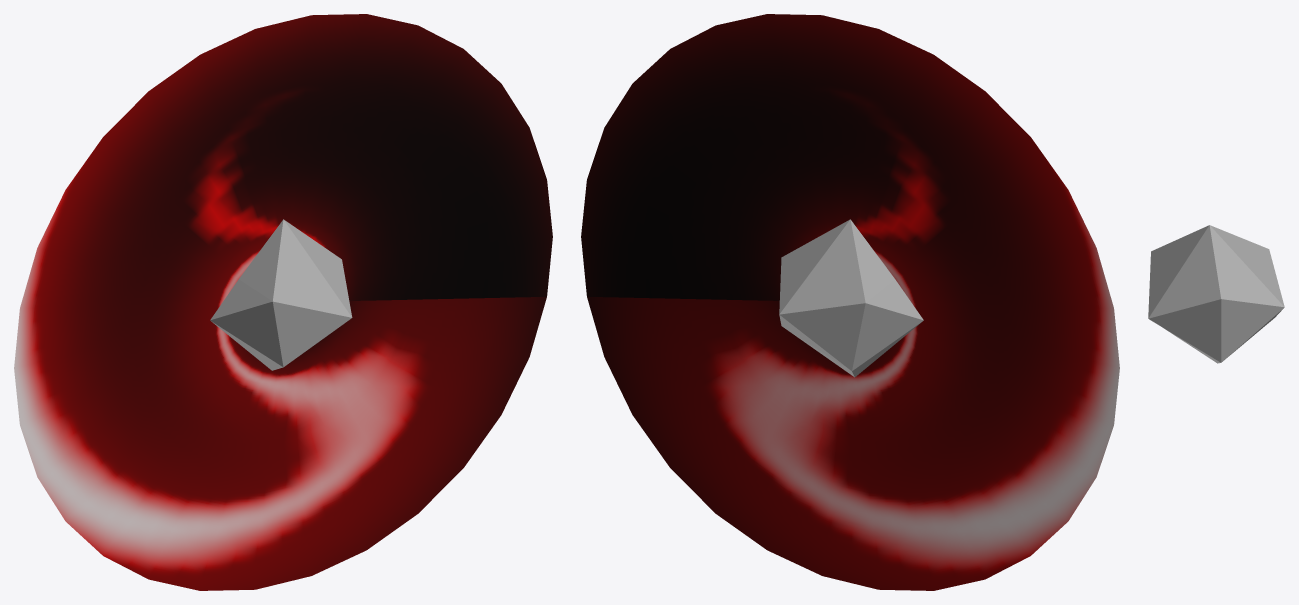
Rendered from bauble.fbx.
The picture shows the model from 3 angles, left to right: view 1: azimuth 30°, elevation 25°; view 2: azimuth 150°, elevation 25°; view 3: azimuth 270°, elevation 25°; orthographic projection. The views are drawn at different scales.
Parts seen in each view (by area): view 1: baubleShine, bauble; view 2: baubleShine, bauble; view 3: bauble.
Part boxes in pixels (box(x1,y1,x2,y2)): baubleShine: box(14, 14, 552, 590); bauble: box(210, 219, 352, 370); baubleShine: box(581, 14, 1119, 590); bauble: box(779, 219, 923, 377); bauble: box(1148, 225, 1284, 363).
Size of the model in its own units: 4.33 by 4.31 by 1.02.
2 materials, 1 textured.
